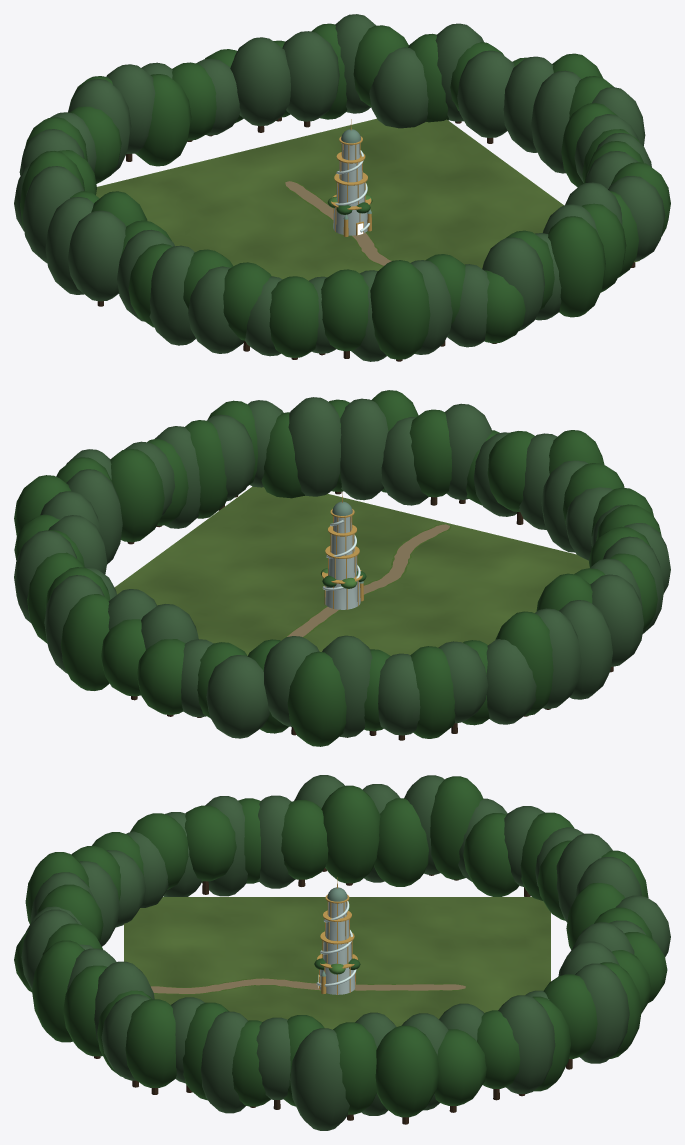
The model's file is orchard.glb.
3 renders of one model, top to bottom at view 1: azimuth 30°, elevation 25°; view 2: azimuth 150°, elevation 25°; view 3: azimuth 270°, elevation 25°, orthographic.
Parts seen in each view (by area): view 1: or_hills, or_ground, or_tower, or_path; view 2: or_hills, or_ground, or_tower, or_path; view 3: or_hills, or_ground, or_tower, or_path.
Boxes of the visible parts, x1,y1,x2,y2 form: or_hills: [14, 14, 670, 361]; or_ground: [96, 118, 639, 280]; or_tower: [331, 119, 371, 236]; or_path: [285, 181, 392, 266]; or_hills: [14, 390, 670, 746]; or_ground: [114, 486, 589, 655]; or_tower: [322, 491, 363, 609]; or_path: [281, 524, 451, 640]; or_hills: [14, 775, 670, 1130]; or_ground: [124, 897, 550, 1029]; or_tower: [316, 877, 357, 994]; or_path: [150, 978, 465, 995].
Bounding box in the file's own units: 155 × 33.5 × 154.
